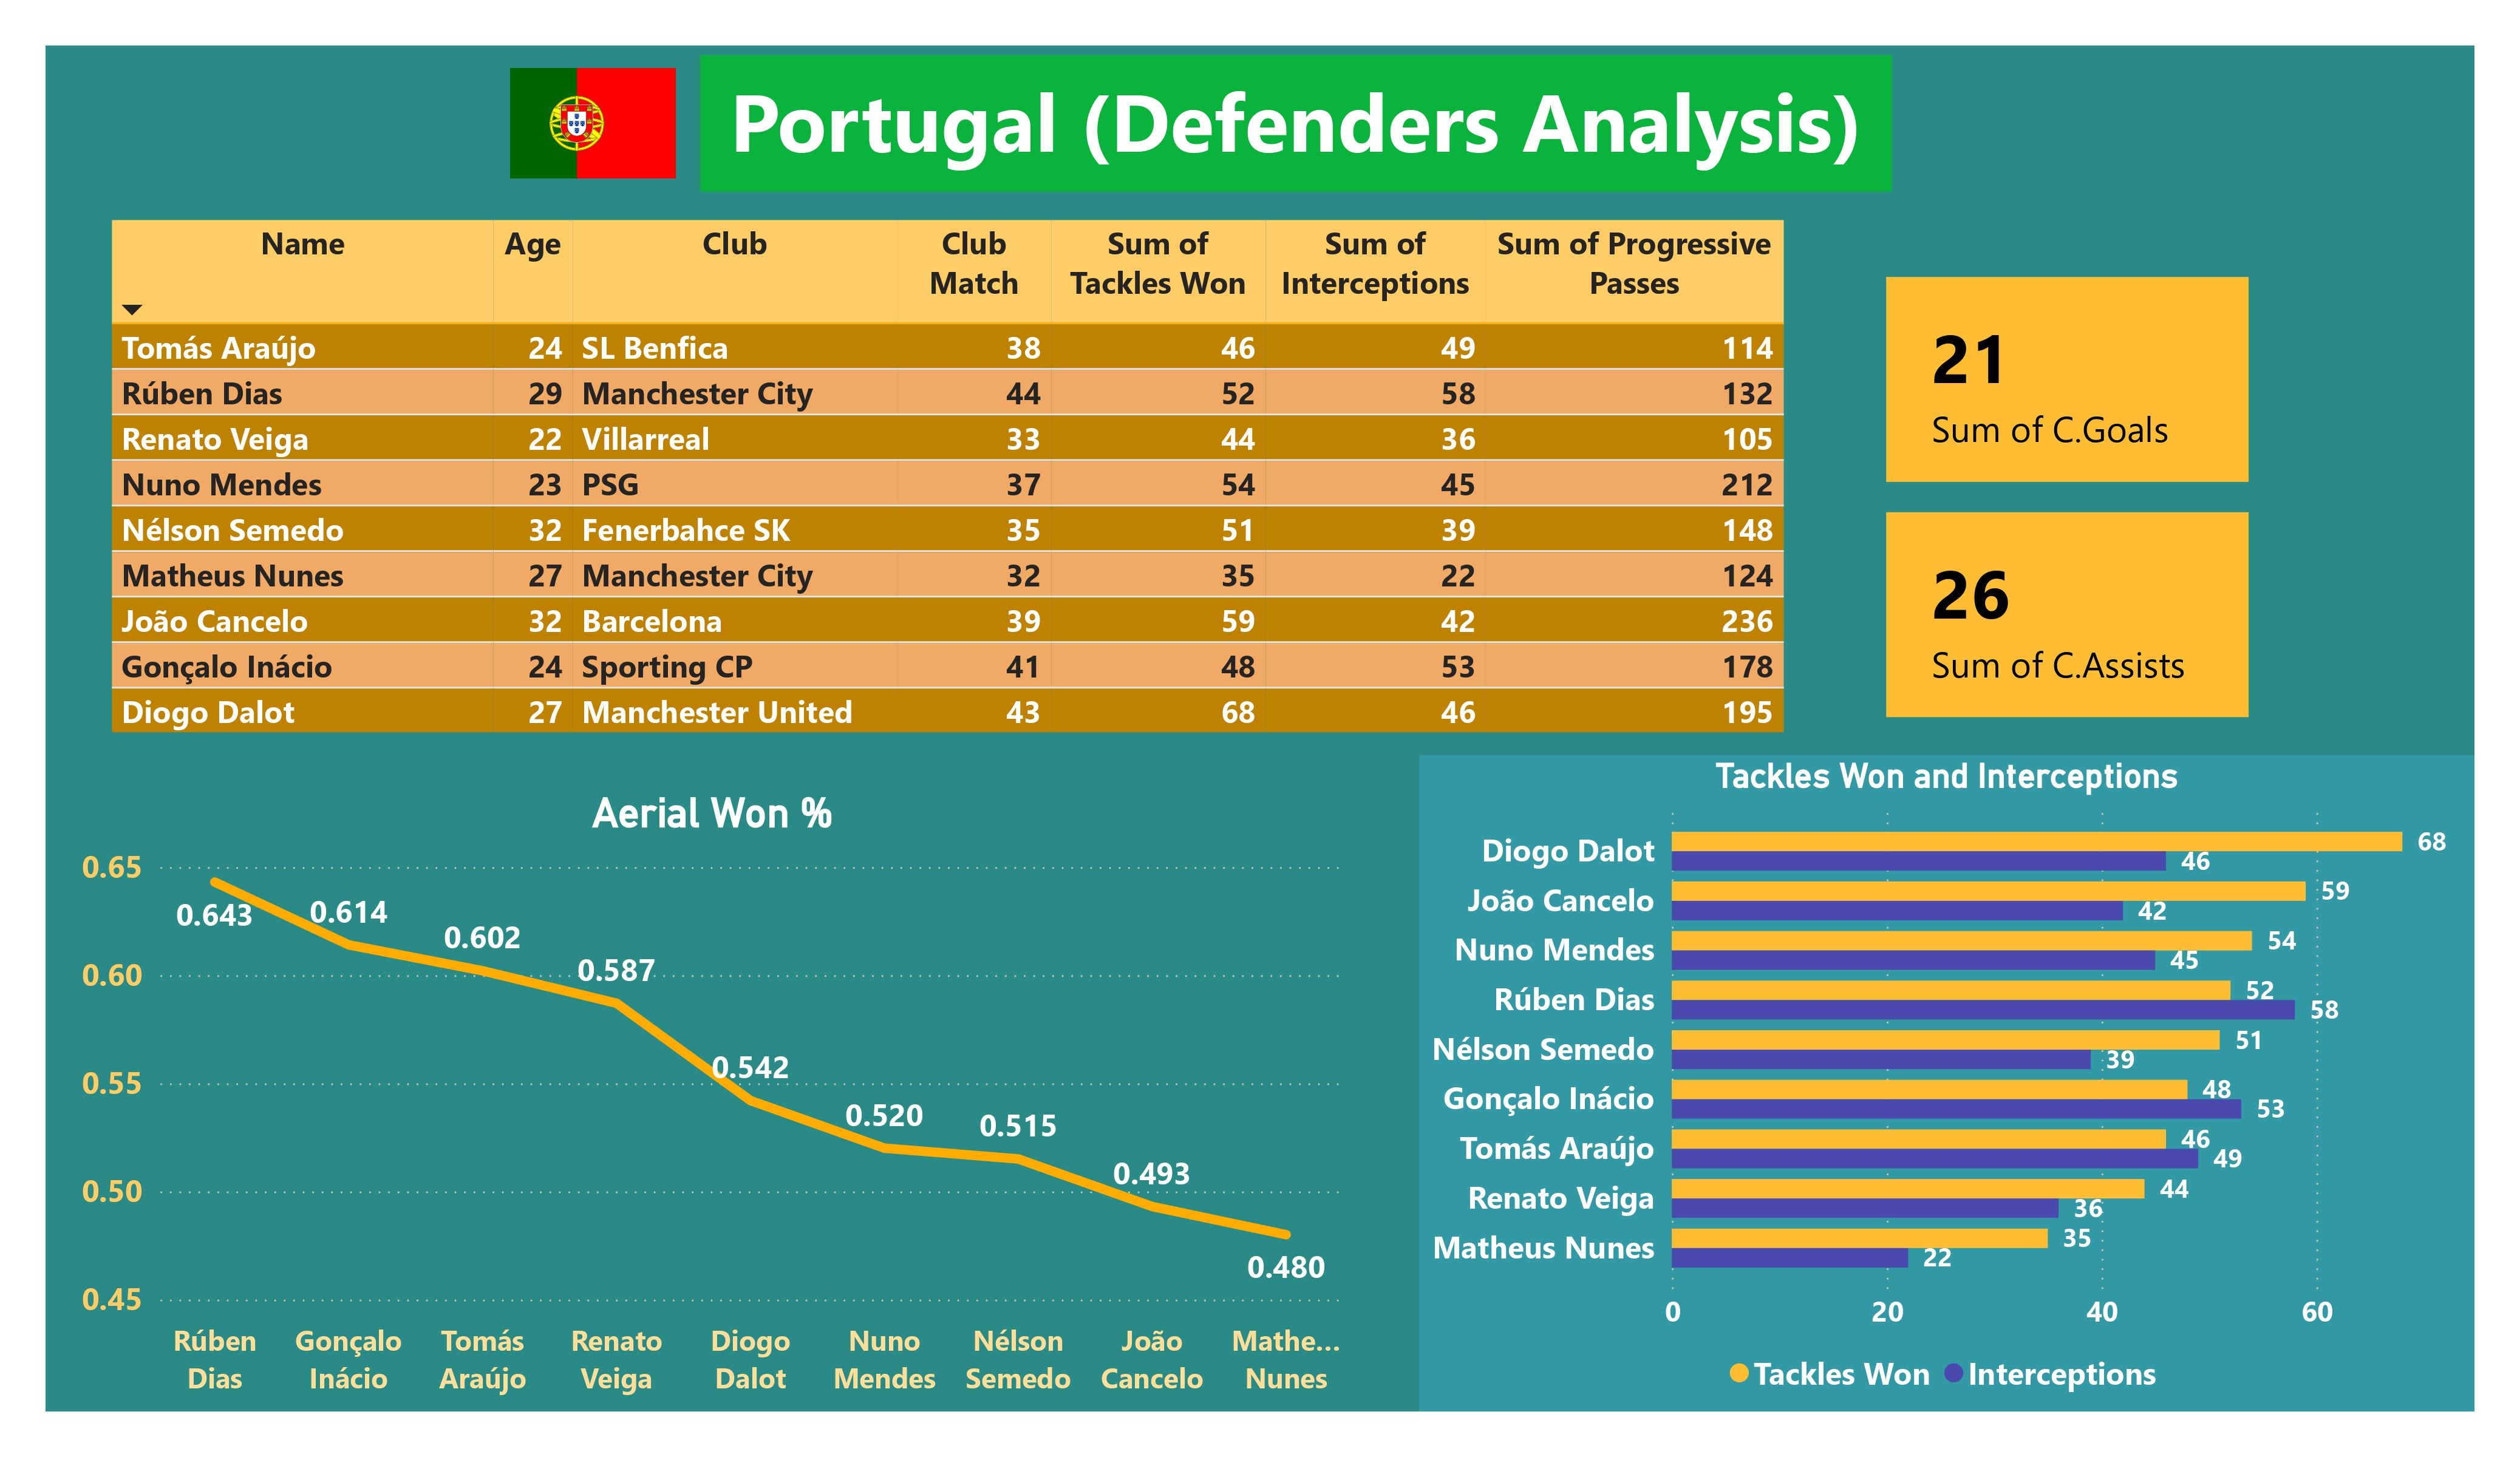

Layout of this report page (visuals, bound fields, positions):
{"tool":"powerbi","page":{"name":"Defenders","canvas":[1280,720],"ordinal":2},"visuals":[{"type":"slicer","fields":{"Values":["Sheet1.Position"]},"box":[995.9,522.4,246.5,181.2],"z":0},{"type":"lineChart","title":"Aerial Won % ","fields":{"Category":["Sheet1.Name"],"Y":["Sum(Sheet1.Aerial Won %)"]},"box":[11,392.1,681,327.9],"z":1000},{"type":"cardVisual","fields":{"Data":["Sum(Sheet1.C.Goals)"]},"box":[964.7,116.7,201.8,118.2],"z":2000},{"type":"cardVisual","fields":{"Data":["Sum(Sheet1.C.Assists)"]},"box":[964.7,241.2,201.8,118.2],"z":3000},{"type":"clusteredBarChart","title":"Tackles Won and Interceptions ","fields":{"Category":["Sheet1.Name"],"Y":["Sum(Sheet1.Tackles Won)","Sum(Sheet1.Interceptions)"]},"box":[723.5,373.6,556.5,346.8],"z":4000},{"type":"tableEx","fields":{"Values":["Sheet1.Name","Sheet1.Age","Sheet1.Club","Sheet1.Club Match","Sum(Sheet1.Tackles Won)","Sum(Sheet1.Interceptions)","Sum(Sheet1.Progressive Passes )"]},"box":[29.1,87.4,905.8,292.6],"z":5000},{"type":"textbox","box":[345.1,4.7,628.3,72.3],"z":6000},{"type":"image","box":[232,11.7,113.1,58.3],"z":7000}]}

Visuals, with their boxes on the page's 1280x720 design canvas (x1, y1, x2, y2). These are canvas units, not pixel positions in the 2520x1457 screenshot, which may show the page scaled, cropped or inside an application window:
slicer - Sheet1.Position: 996 522 1242 704
"Aerial Won % " lineChart: 11 392 692 720
cardVisual - Sum(Sheet1.C.Goals): 965 117 1166 235
cardVisual - Sum(Sheet1.C.Assists): 965 241 1166 359
"Tackles Won and Interceptions " clusteredBarChart: 724 374 1280 720
tableEx - Sheet1.Name x Sheet1.Age: 29 87 935 380
textbox: 345 5 973 77
image: 232 12 345 70
